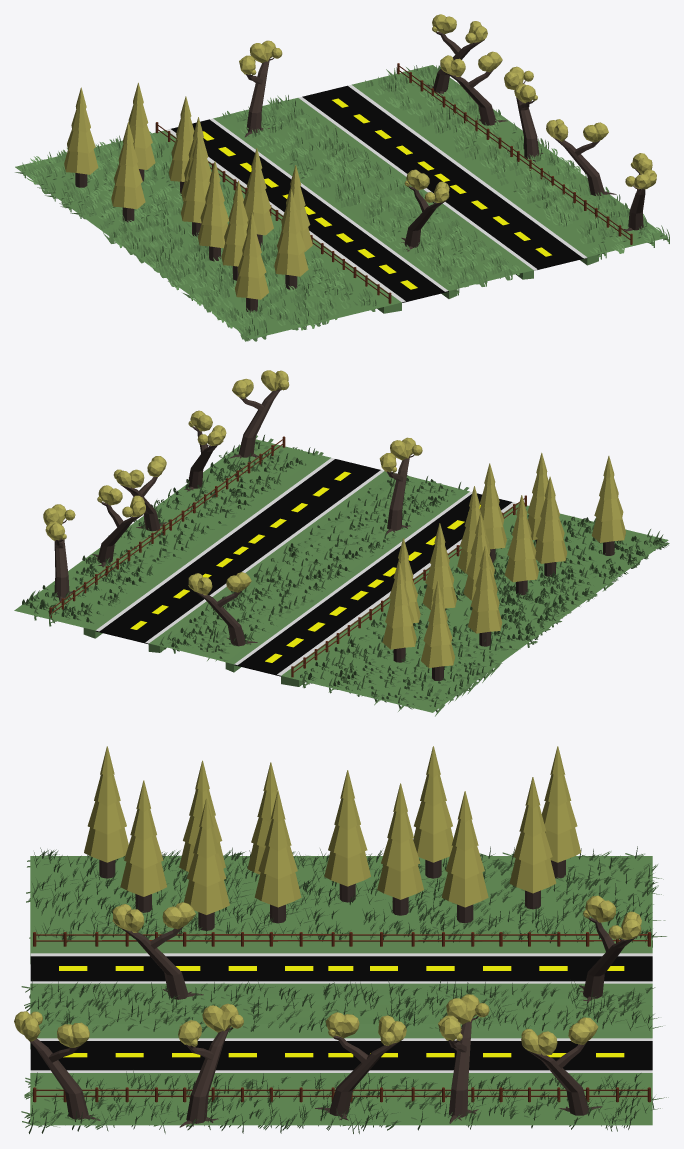
Rendered from plano.glb.
3 views of the same model, one above another, from view 1: azimuth 30°, elevation 25°; view 2: azimuth 150°, elevation 25°; view 3: azimuth 270°, elevation 25° (orthographic). The views are drawn at different scales.
Parts seen in each view (by area): view 1: pastizal, calle, sin pasto pastizal, vallas, copa.011, copa.009, copa, copa.001, copa.005, tronco.001, tronco.004, tronco.006 (+11 smaller); view 2: pastizal, calle, sin pasto pastizal, vallas, copa.010, copa.009, copa.011, copa.001, copa.005, copa.003, tronco.003, tronco (+11 smaller); view 3: pastizal, calle, sin pasto pastizal, vallas, copa.006, copa.007, copa.008, copa, copa.004, copa.010, copa.001, copa.002 (+11 smaller).
Part boxes in pixels (x1,y1,x2,y2): pastizal: (15, 65, 668, 339); calle: (166, 84, 587, 302); sin pasto pastizal: (150, 82, 598, 313); vallas: (155, 63, 632, 303); copa.011: (64, 87, 98, 187); copa.009: (111, 122, 145, 222); copa: (274, 189, 308, 289); copa.001: (235, 212, 268, 312); copa.005: (198, 161, 228, 261); tronco.001: (239, 40, 282, 137); tronco.004: (546, 119, 616, 195); tronco.006: (440, 51, 507, 125); pastizal: (14, 439, 668, 712); calle: (95, 458, 516, 676); sin pasto pastizal: (83, 455, 529, 686); vallas: (49, 436, 526, 677); copa.010: (382, 562, 416, 662); copa.009: (468, 546, 502, 646); copa.011: (421, 581, 454, 681); copa.001: (591, 456, 625, 555); copa.005: (504, 495, 538, 595); copa.003: (535, 476, 567, 576); tronco.003: (229, 370, 289, 458); tronco: (379, 437, 422, 534); pastizal: (30, 856, 652, 1125); calle: (30, 953, 652, 1072); sin pasto pastizal: (30, 942, 652, 1080); vallas: (33, 932, 650, 1102); copa.006: (377, 783, 423, 915); copa.007: (324, 770, 370, 902); copa.008: (441, 791, 488, 923); copa: (120, 780, 166, 912); copa.004: (254, 791, 301, 923); copa.010: (509, 777, 556, 909); copa.001: (84, 746, 128, 878); copa.002: (184, 798, 229, 930).
Bounding box in the file's own units: 16.79 × 4.82 × 16.72.
